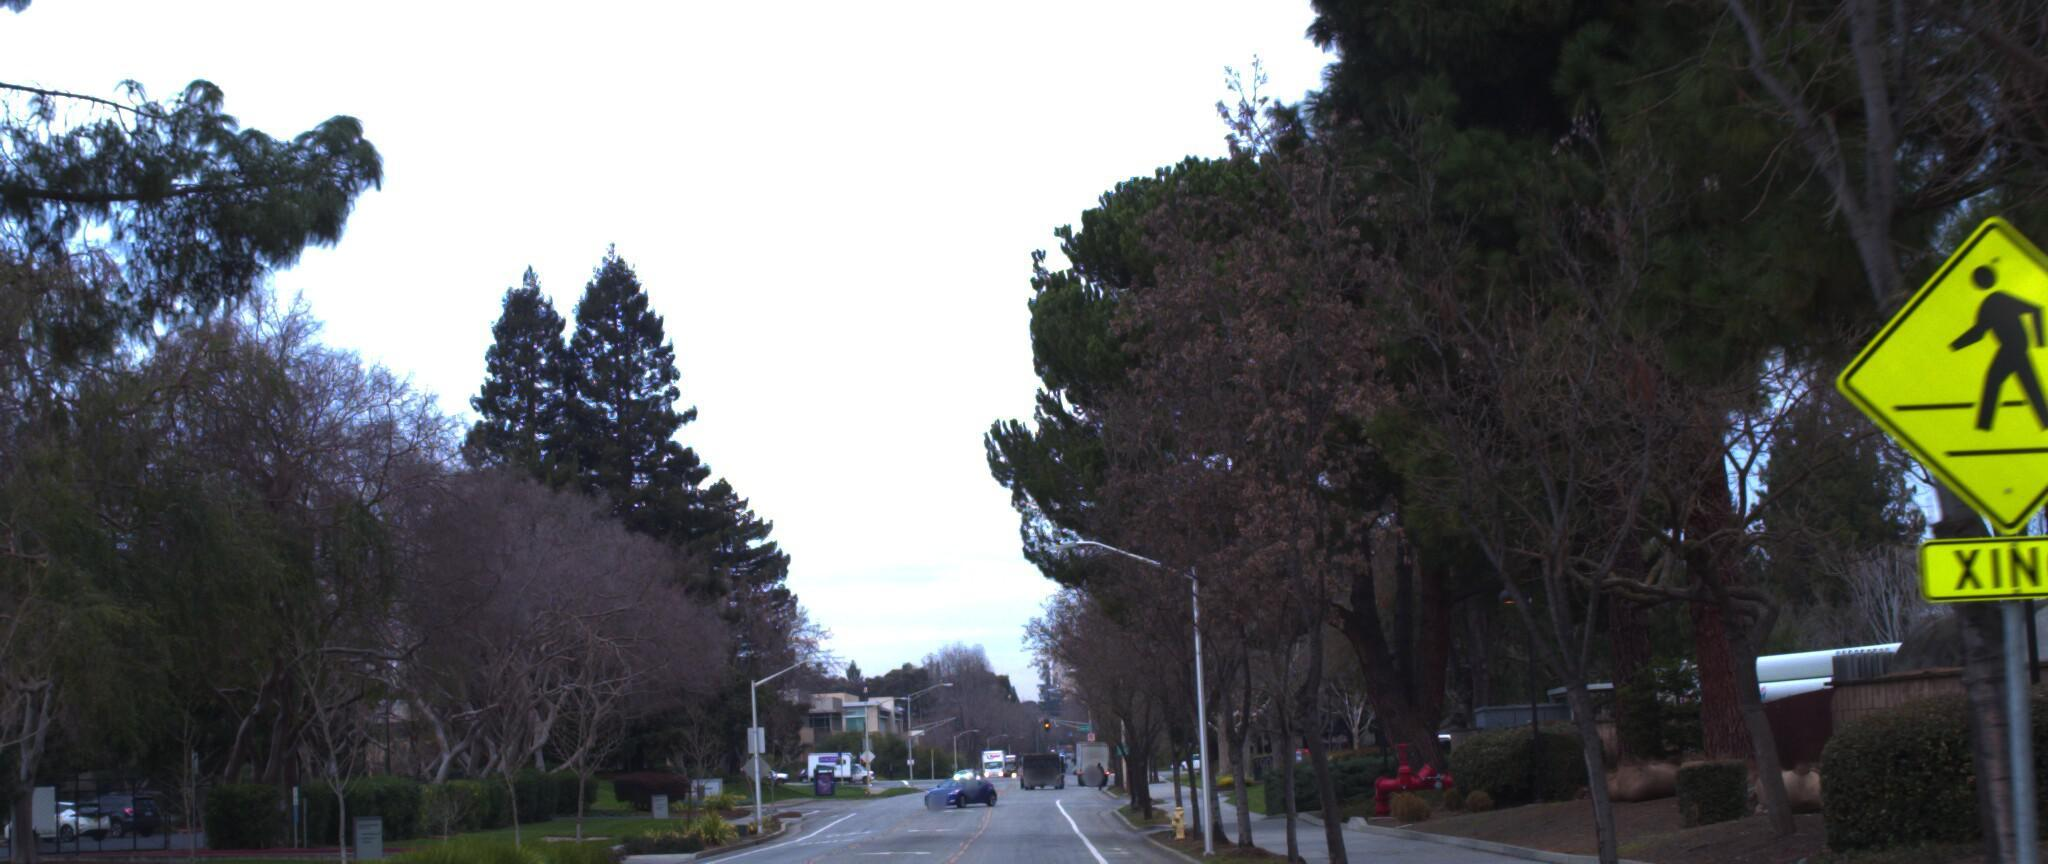other_vehicle: (1652, 619, 2048, 780)
